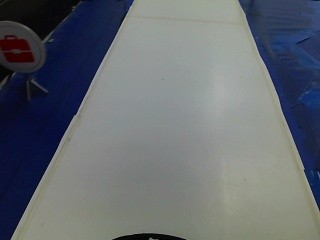company: (0, 15, 50, 77)
